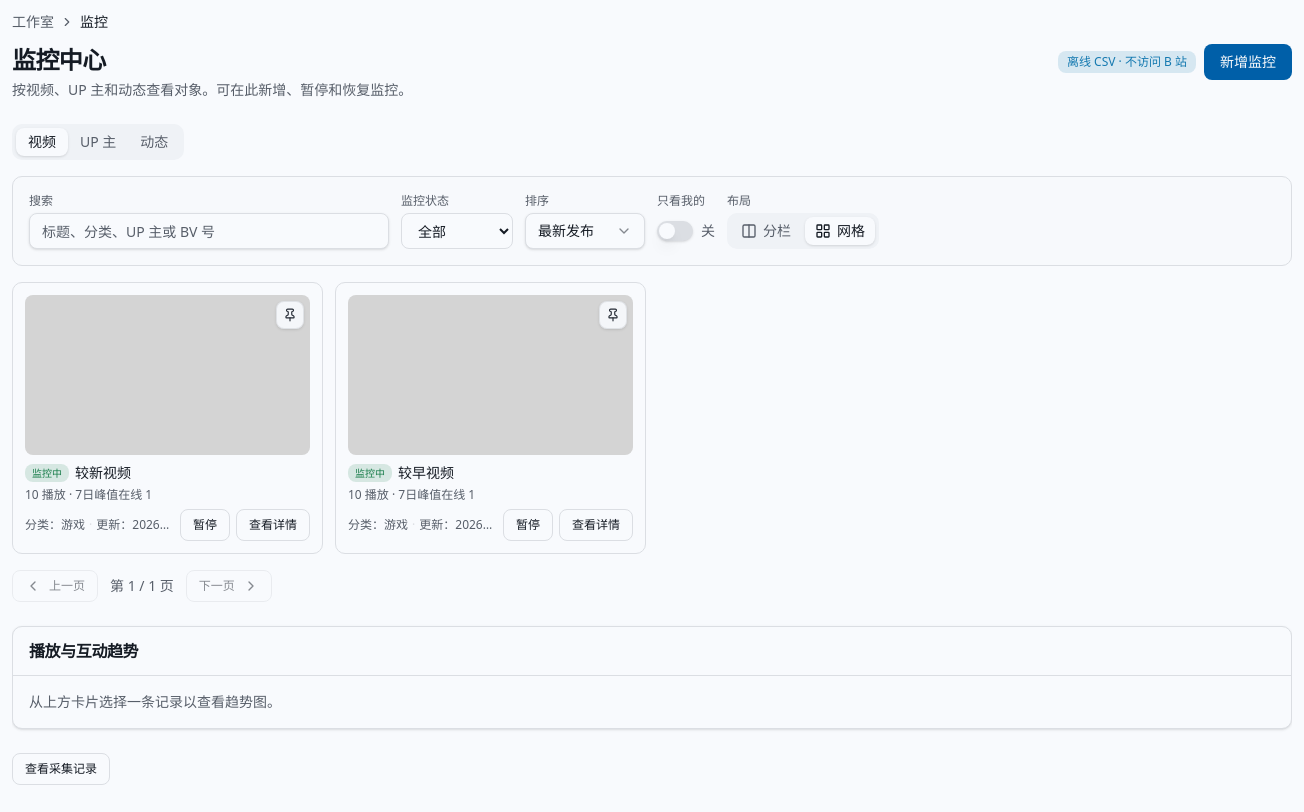
Scenario: WP-R2-MON-01 video pin + sort UI › successful pin refetches and shows filled pin without changing action buttons
Click the button with test id "video-pin-button" at point(290, 315), box x1=276 y1=301 x2=304 y2=329
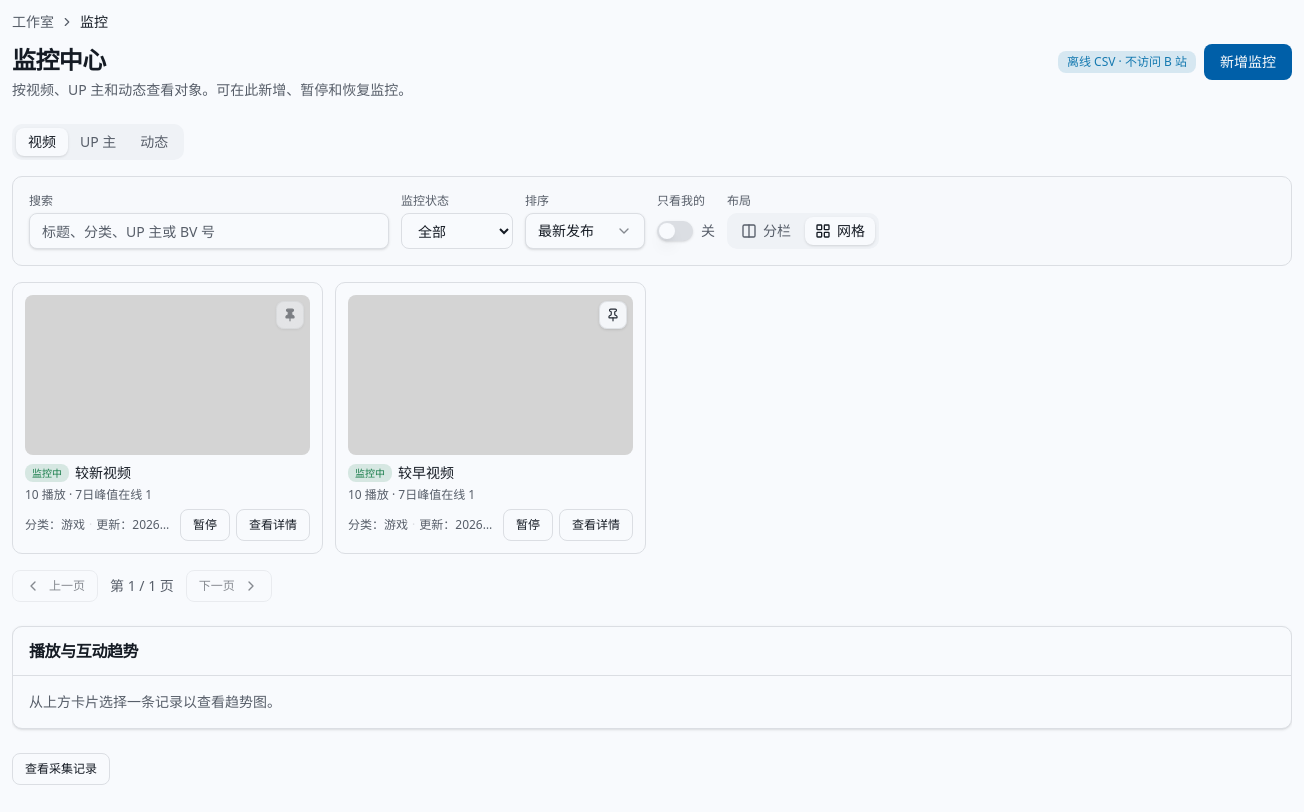
Expected: the 1st button "暂停" is shown, x1=180 y1=509 x2=230 y2=541
Expected: the icon with test id "video-pin-icon-filled" is shown, x1=283 y1=308 x2=297 y2=322
